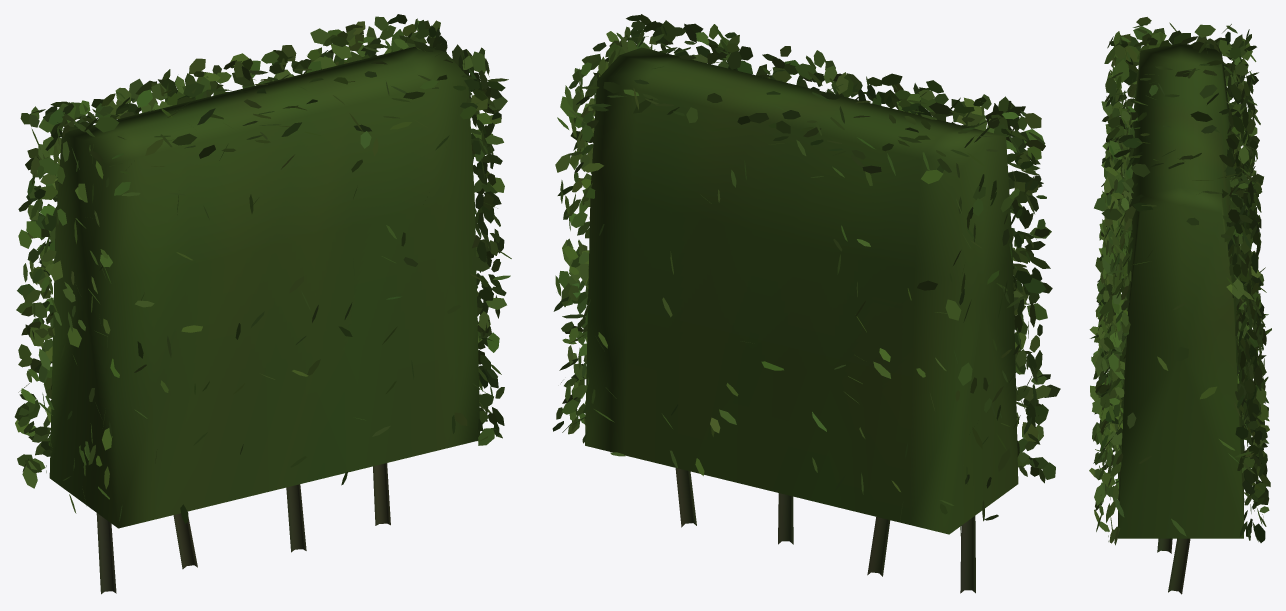
File: SM_Tree_garden_hedge_1.glb
3 renders of one model, left to right at view 1: azimuth 30°, elevation 25°; view 2: azimuth 150°, elevation 25°; view 3: azimuth 270°, elevation 25°, orthographic. The views are drawn at different scales.
Parts seen in each view (by area): view 1: SM_Tree_garden_hedge_1; view 2: SM_Tree_garden_hedge_1; view 3: SM_Tree_garden_hedge_1.
Boxes of the visible parts, x1,y1,x2,y2 form: SM_Tree_garden_hedge_1: (14, 14, 511, 594); SM_Tree_garden_hedge_1: (552, 14, 1060, 593); SM_Tree_garden_hedge_1: (1089, 17, 1271, 594).
Bounding box in the file's own units: 1.57 × 1.7 × 0.6382.
